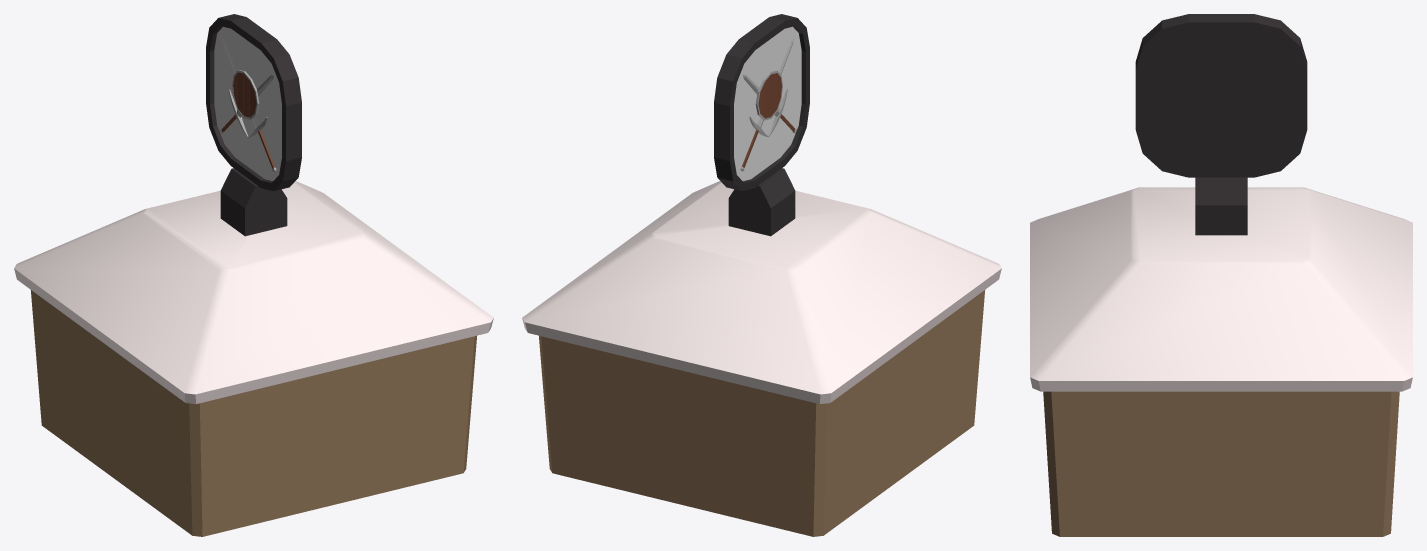
The model's file is SM_WarriorHouse.fbx.
The picture shows the model from 3 angles, left to right: view 1: azimuth 30°, elevation 25°; view 2: azimuth 150°, elevation 25°; view 3: azimuth 270°, elevation 25°; orthographic projection. The views are drawn at different scales.
Visible parts, largest first — view 1: SM_WarriorHouse; view 2: SM_WarriorHouse; view 3: SM_WarriorHouse.
Part boxes in pixels (x1,y1,x2,y2): SM_WarriorHouse: (14,14,493,536); SM_WarriorHouse: (522,14,1001,536); SM_WarriorHouse: (1030,14,1412,536).
Bounding box in the file's own units: 226 × 291 × 226.
